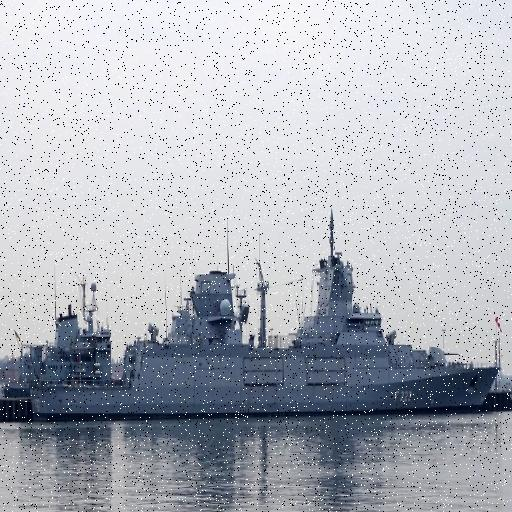Fragata: (13, 206, 504, 429)
